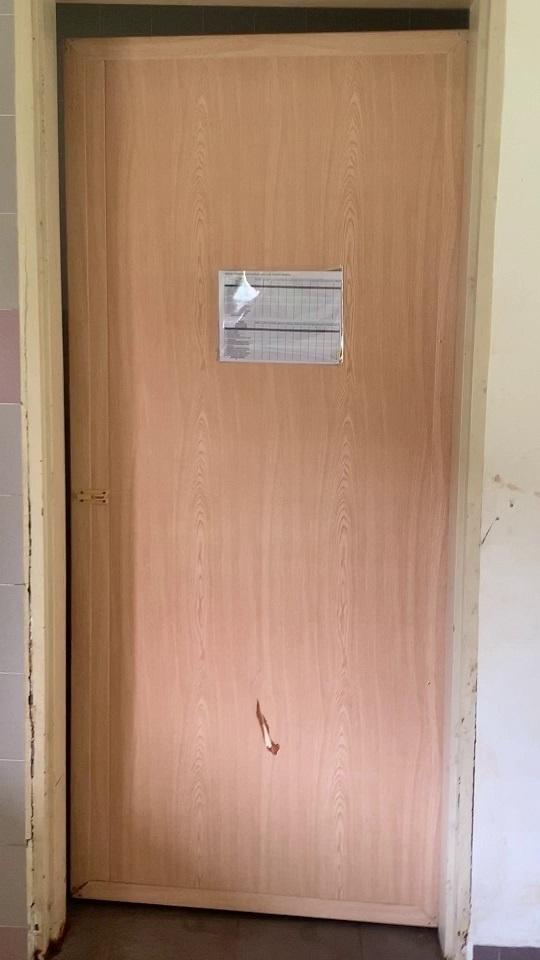door: (62, 29, 471, 960)
